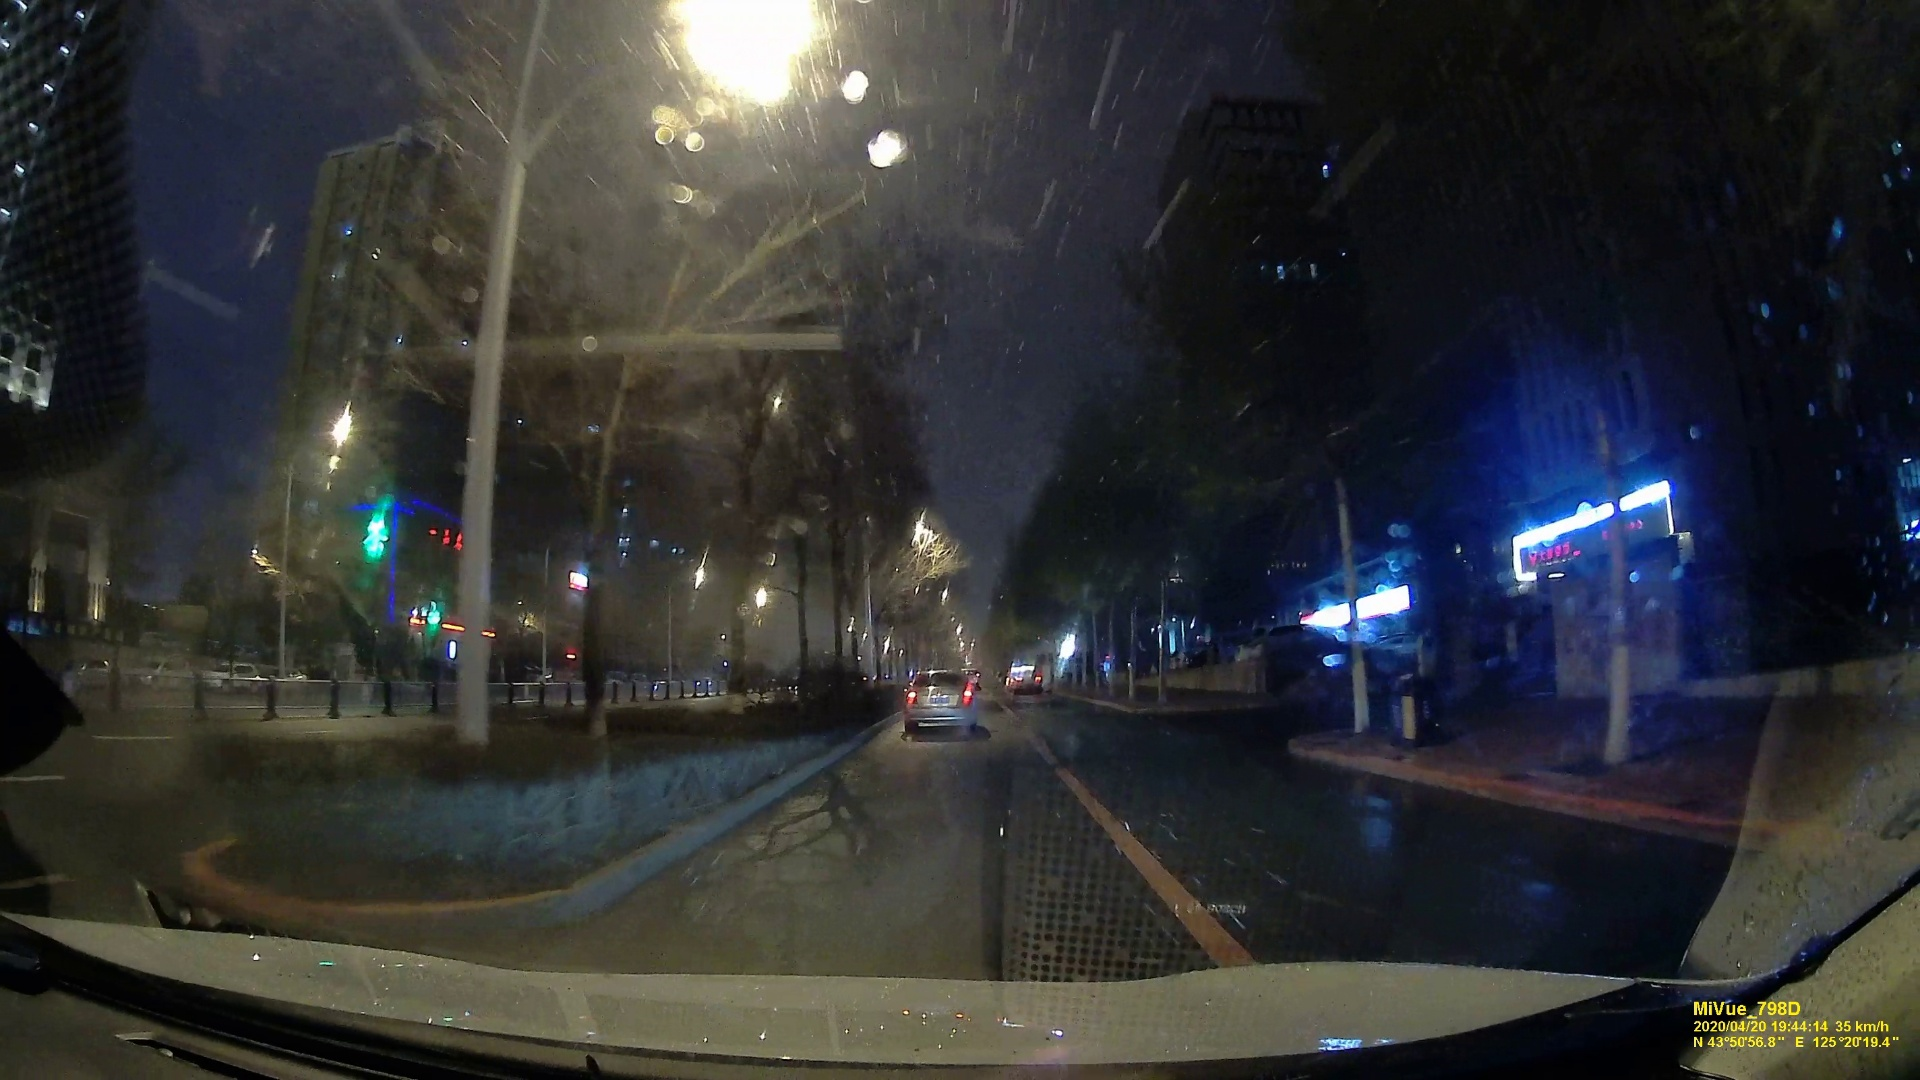vehicle: (902, 669, 978, 735)
